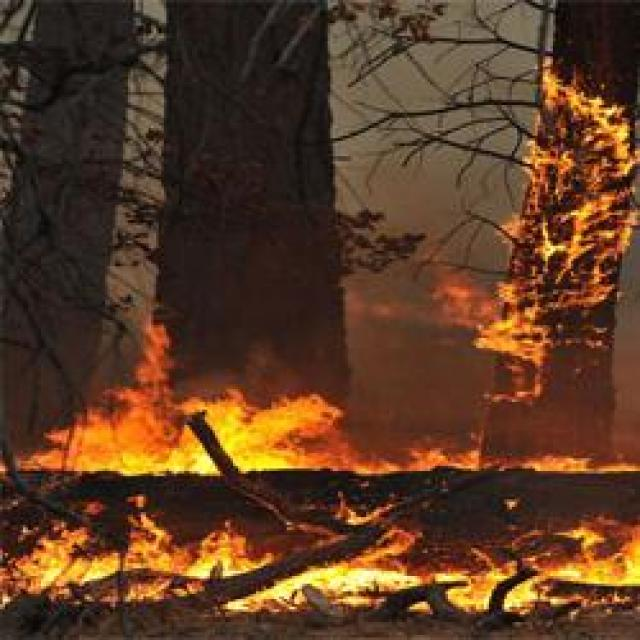fire: (213, 401, 336, 472), (82, 408, 188, 473), (23, 540, 101, 589), (326, 564, 414, 592), (563, 553, 640, 584)
